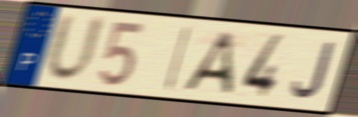4: (238, 30, 289, 102)
5: (96, 18, 150, 89)
A: (179, 29, 236, 97)
I: (161, 23, 195, 93)
J: (290, 40, 337, 101)
U: (43, 11, 109, 86)
